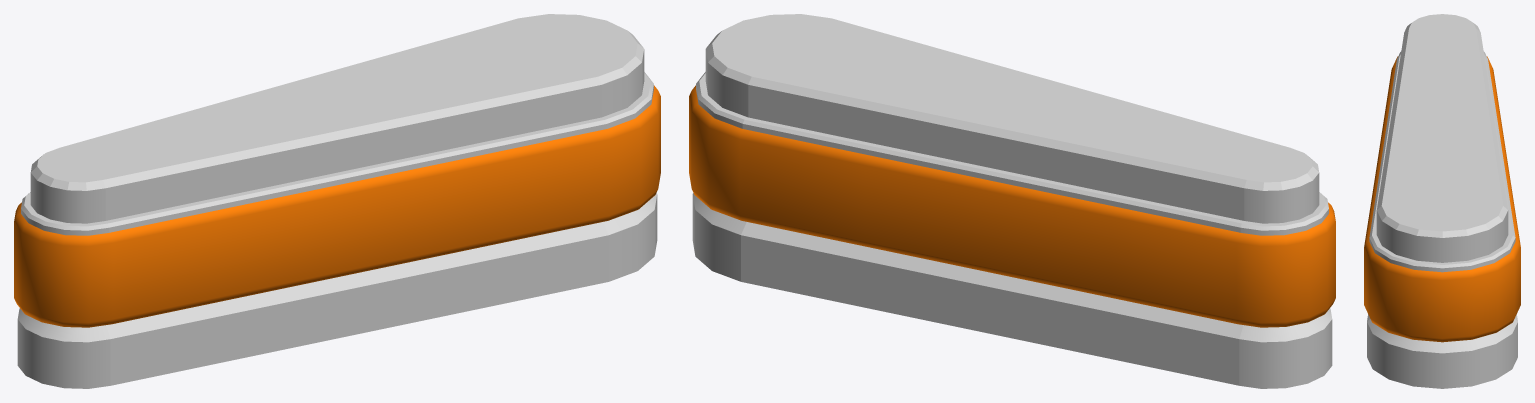
Rendered from Flipper.FBX.
3 views of the same model, side by side, from view 1: azimuth 30°, elevation 25°; view 2: azimuth 150°, elevation 25°; view 3: azimuth 270°, elevation 25° (orthographic). The views are drawn at different scales.
Visible parts, largest first — view 1: Flipper; view 2: Flipper; view 3: Flipper.
Boxes of the visible parts, left/top/right/bottom form: Flipper: left=14, top=14, right=660, bottom=388; Flipper: left=689, top=14, right=1335, bottom=388; Flipper: left=1364, top=14, right=1520, bottom=388.
Size of the model in its own units: 295 by 84.06 by 94.9.
